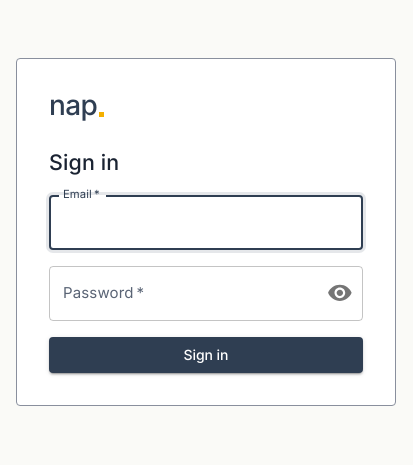
LoginPage › shows retry timing for a throttled login
Expected: the heading "Sign in" is shown, [49,149,119,175]
Type "user@example.com" into the field labelled "Email *" at [206, 223], box [49,195,363,250]
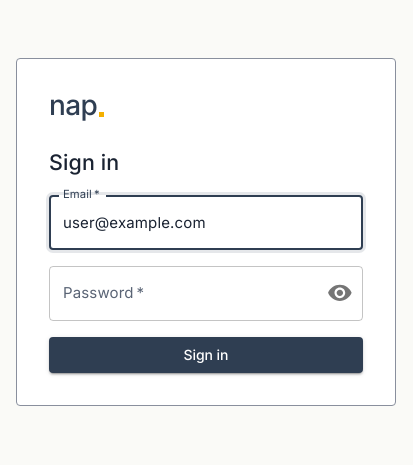
Type "password" into the password field labelled "Password *" at [180, 293], box [49,266,311,321]
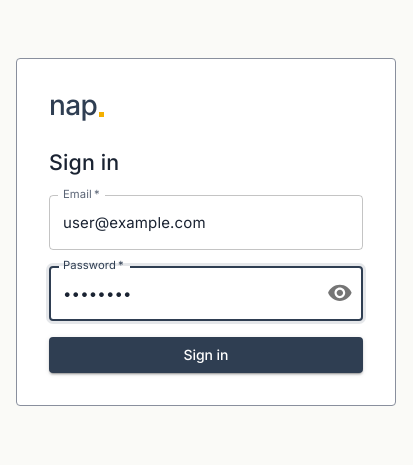
Click the button "Sign in" at [206, 355], box [49,337,363,373]
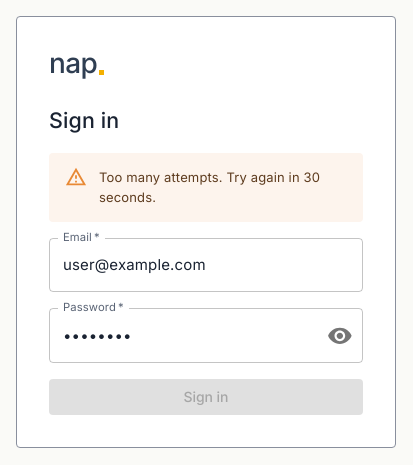
Expected: the text "Too many attempts. Try again in 30 seconds." is shown, [99,159,347,216]
